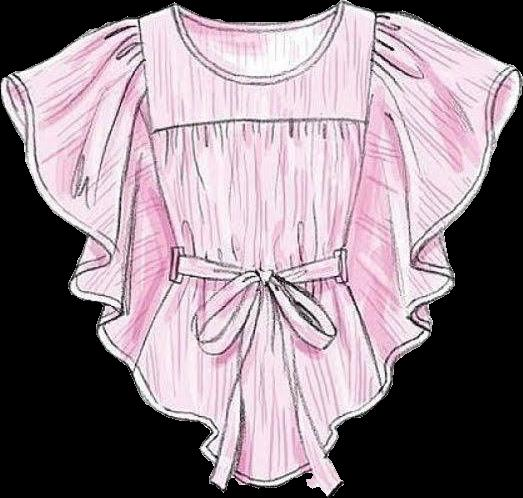Bodice: (132, 0, 386, 495)
Neckline: (174, 2, 345, 82), (174, 245, 347, 277), (149, 116, 365, 136)
Sleeve: (346, 10, 522, 394), (1, 18, 172, 372)
Sleeveline: (136, 17, 154, 136), (367, 12, 382, 123)
Waistline: (129, 371, 385, 496)
